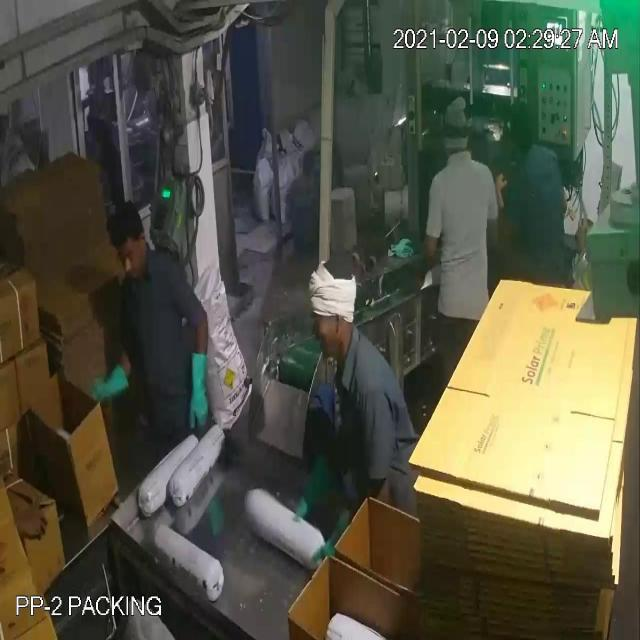Gloves: (30, 60, 425, 520)
